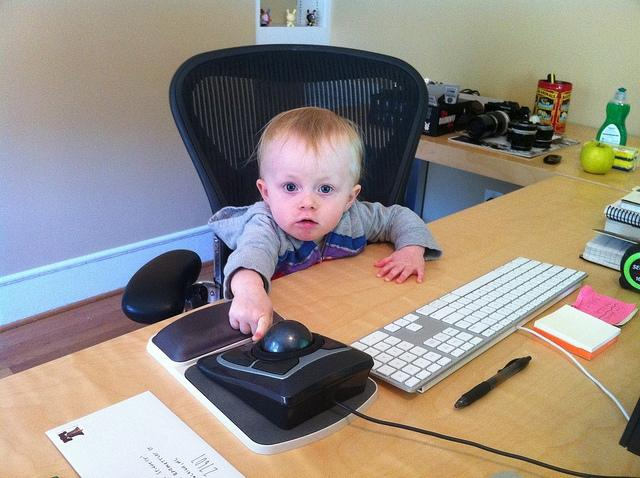apple: (580, 141, 614, 174)
